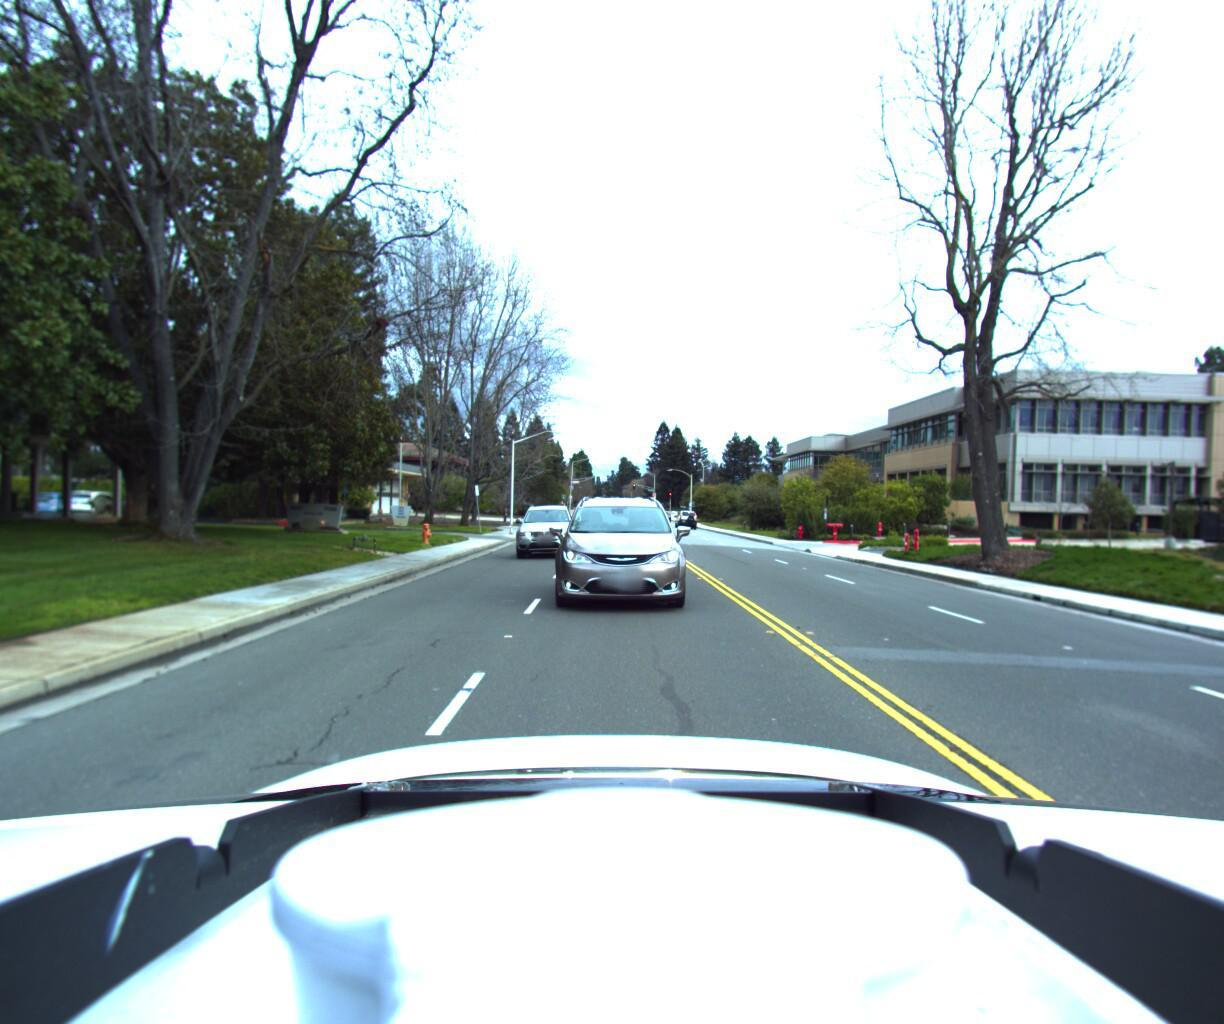car: (534, 485, 701, 625), (511, 504, 582, 561), (675, 509, 699, 529)
